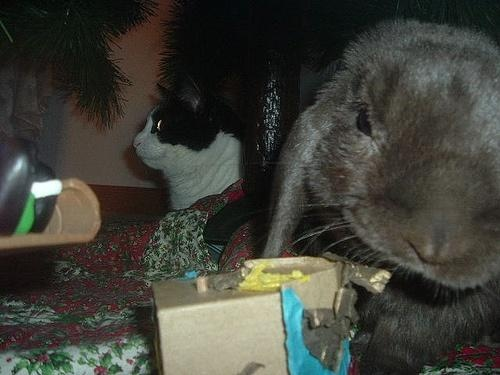cat: (132, 82, 257, 228)
